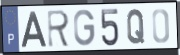0: (151, 8, 171, 45)
5: (99, 7, 120, 48)
A: (20, 11, 48, 49)
G: (73, 9, 96, 48)
Q: (126, 8, 146, 46)
R: (46, 9, 71, 49)
